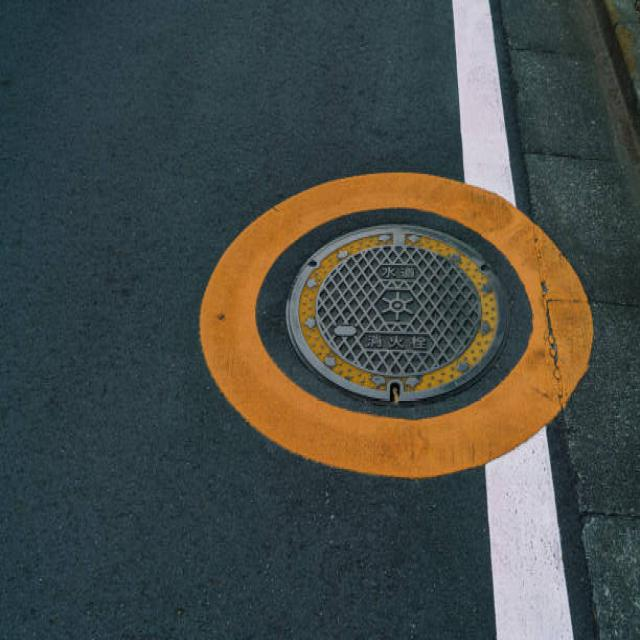Good: (282, 216, 514, 413)
